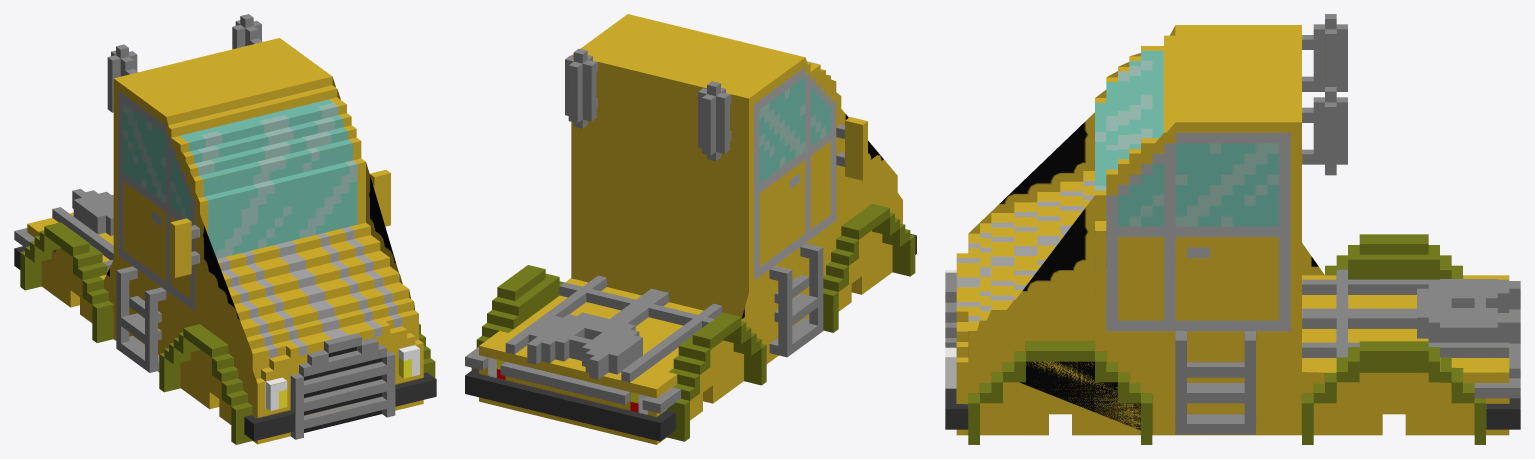
The model's file is Trailer_Var1_3.obj.
3 renders of one model, left to right at view 1: azimuth 30°, elevation 25°; view 2: azimuth 150°, elevation 25°; view 3: azimuth 270°, elevation 25°, orthographic. The views are drawn at different scales.
Parts seen in each view (by area): view 1: Trailer_Var1_3_Trailer_Var1_3.001; view 2: Trailer_Var1_3_Trailer_Var1_3.001; view 3: Trailer_Var1_3_Trailer_Var1_3.001.
Boxes of the visible parts, x1,y1,x2,y2 form: Trailer_Var1_3_Trailer_Var1_3.001: [14, 14, 436, 444]; Trailer_Var1_3_Trailer_Var1_3.001: [465, 14, 916, 444]; Trailer_Var1_3_Trailer_Var1_3.001: [945, 14, 1520, 444].
Bounding box in the file's own units: 2.6 × 3.2 × 5.
